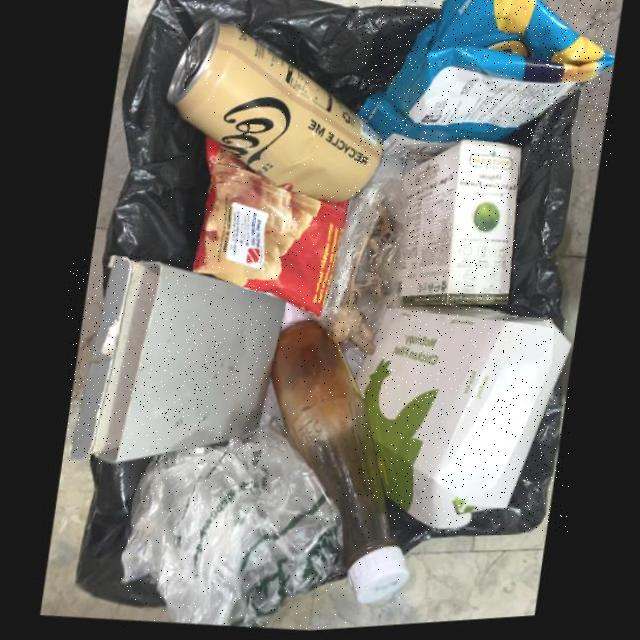biowaste: (331, 207, 401, 360)
glass: (269, 324, 409, 609)
metal: (165, 21, 380, 207)
paper: (355, 312, 570, 535), (68, 256, 285, 465), (399, 146, 519, 311)
plastic: (120, 424, 347, 632), (318, 184, 407, 329)
wrapper: (356, 0, 612, 167), (190, 139, 348, 320)
